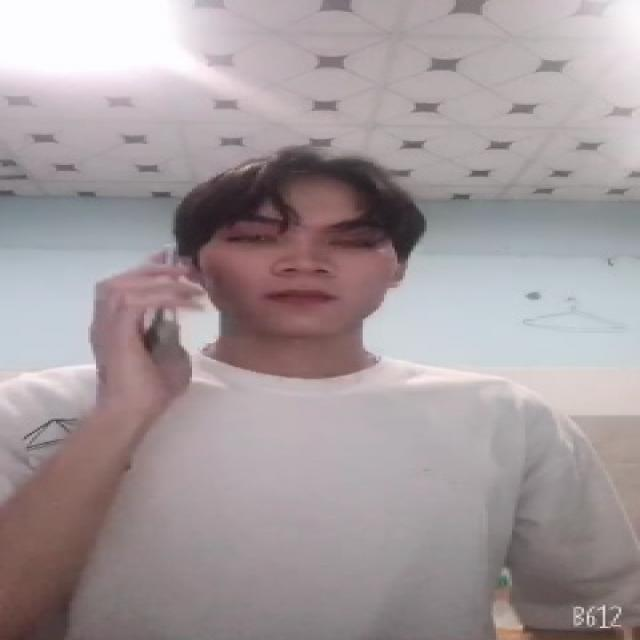Phone: (141, 241, 188, 353)
